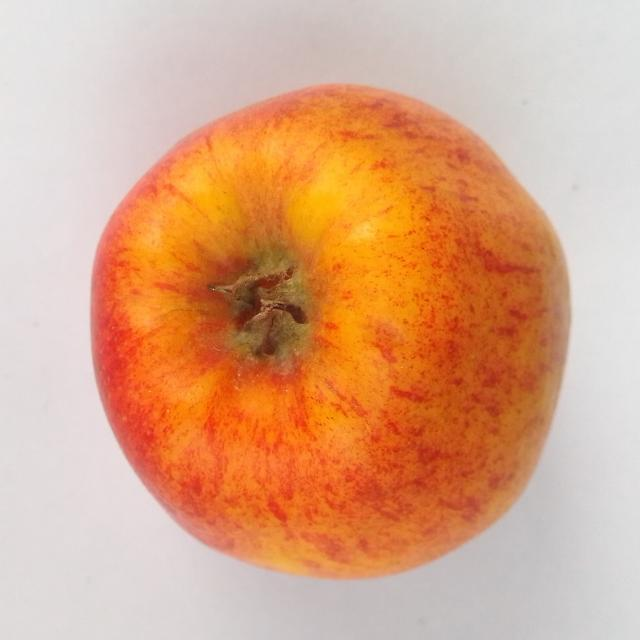Fresh Apple: (82, 79, 573, 578)
